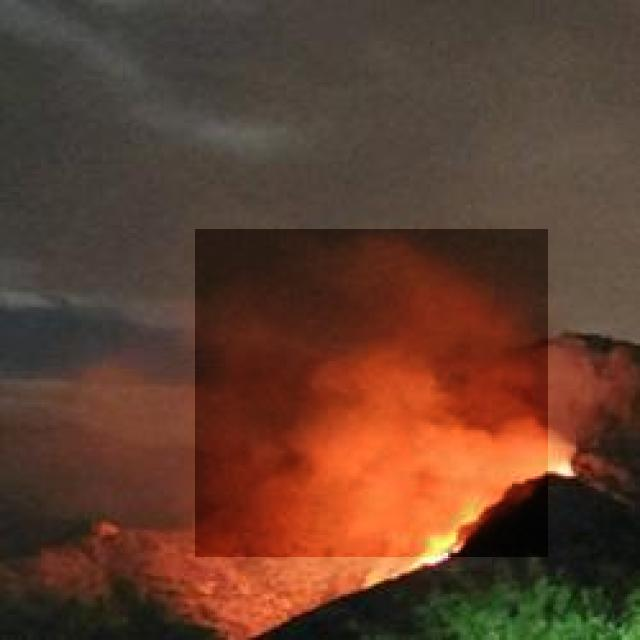Fire: (420, 505, 492, 571), (547, 448, 589, 486)
Smoke: (195, 229, 548, 557)
